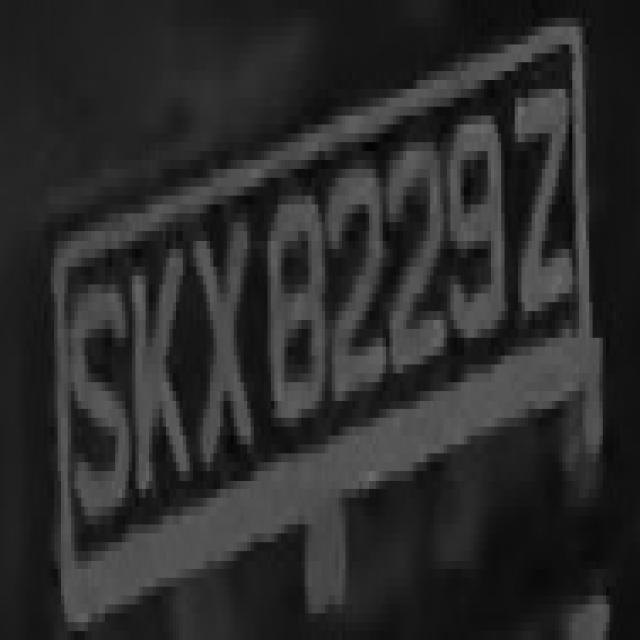2: (386, 107, 447, 409), (328, 151, 393, 418)
8: (258, 178, 328, 453)
9: (440, 80, 508, 347)
K: (125, 204, 190, 516)
S: (61, 240, 132, 533)
X: (186, 187, 261, 498)
Z: (508, 53, 589, 347)
